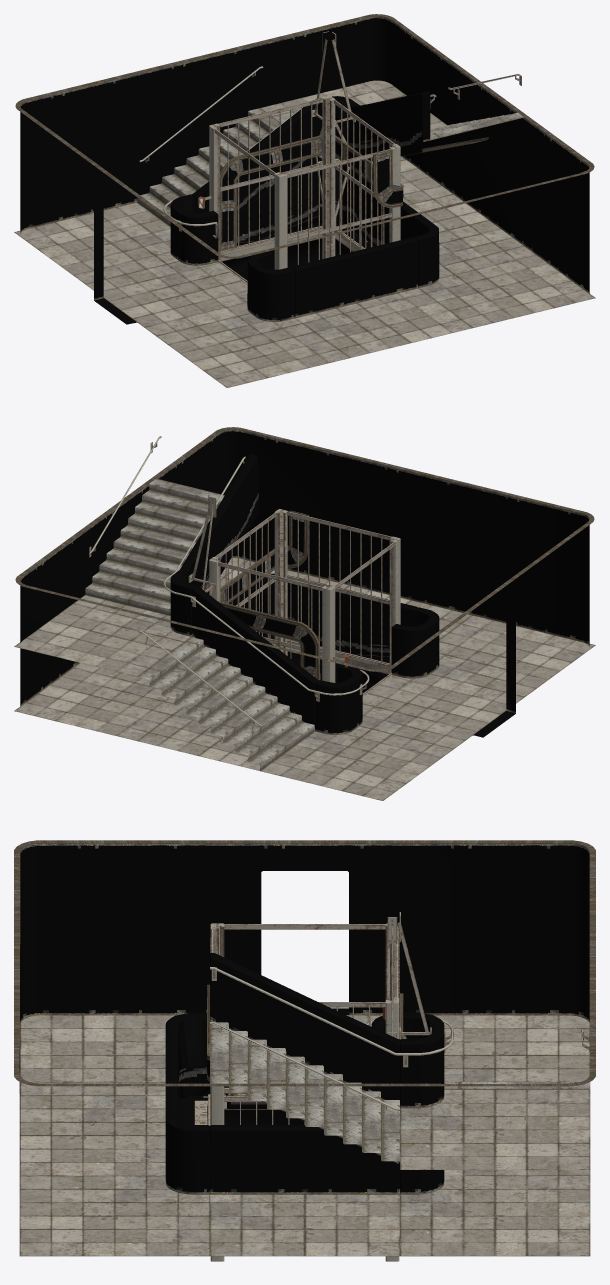
The model's file is stairwell_bottom.glb.
3 views of the same model, one above another, from view 1: azimuth 30°, elevation 25°; view 2: azimuth 150°, elevation 25°; view 3: azimuth 270°, elevation 25° (orthographic). The views are drawn at different scales.
Parts seen in each view (by area): view 1: stairwell_bottom_LOD0; view 2: stairwell_bottom_LOD0; view 3: stairwell_bottom_LOD0.
Boxes of the visible parts, x1,y1,x2,y2 form: stairwell_bottom_LOD0: [14, 14, 595, 387]; stairwell_bottom_LOD0: [14, 427, 595, 800]; stairwell_bottom_LOD0: [14, 840, 595, 1261].
Bounding box in the file's own units: 9.34 × 6 × 9.18.
6 materials, 6 textured.
